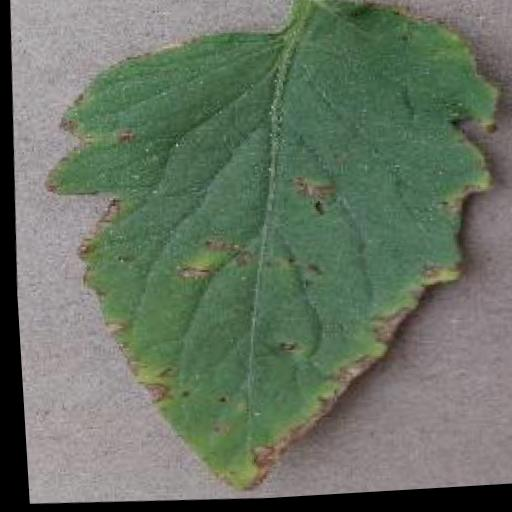Bacterial Spot: (14, 0, 512, 511)
